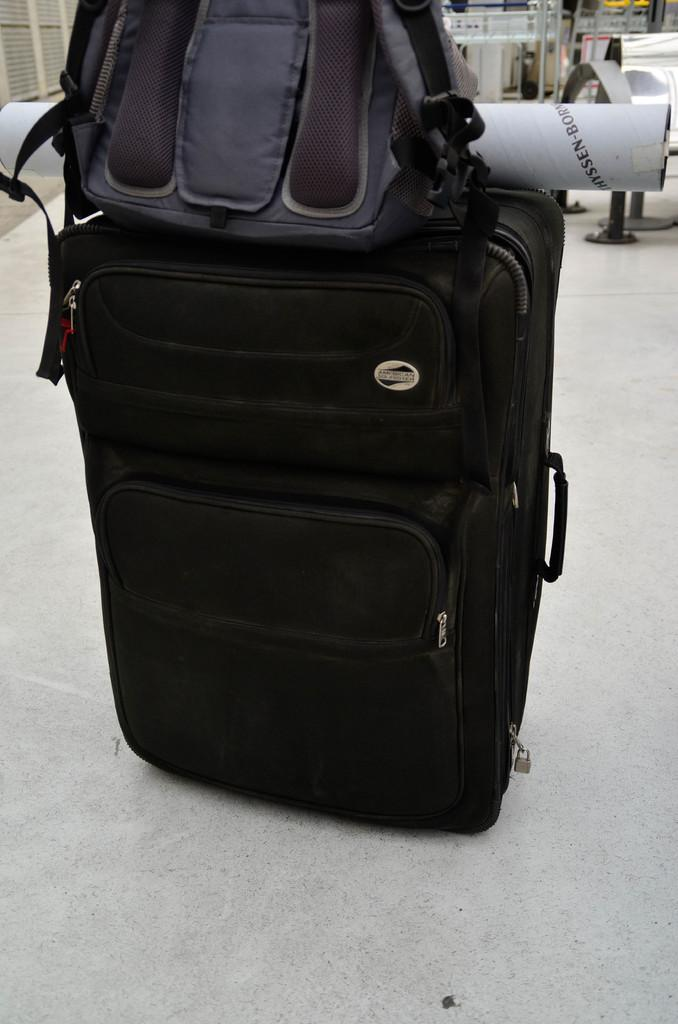Luggage-and-bags: (60, 177, 561, 820), (0, 0, 504, 394)
